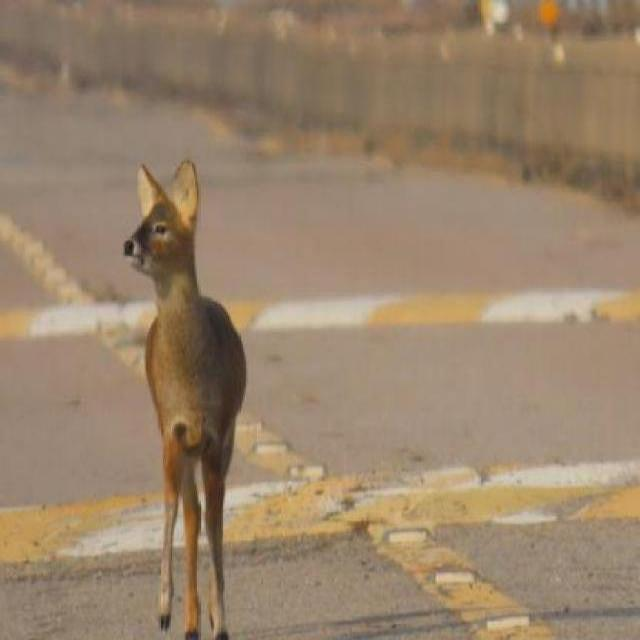deer: (114, 145, 271, 638)
